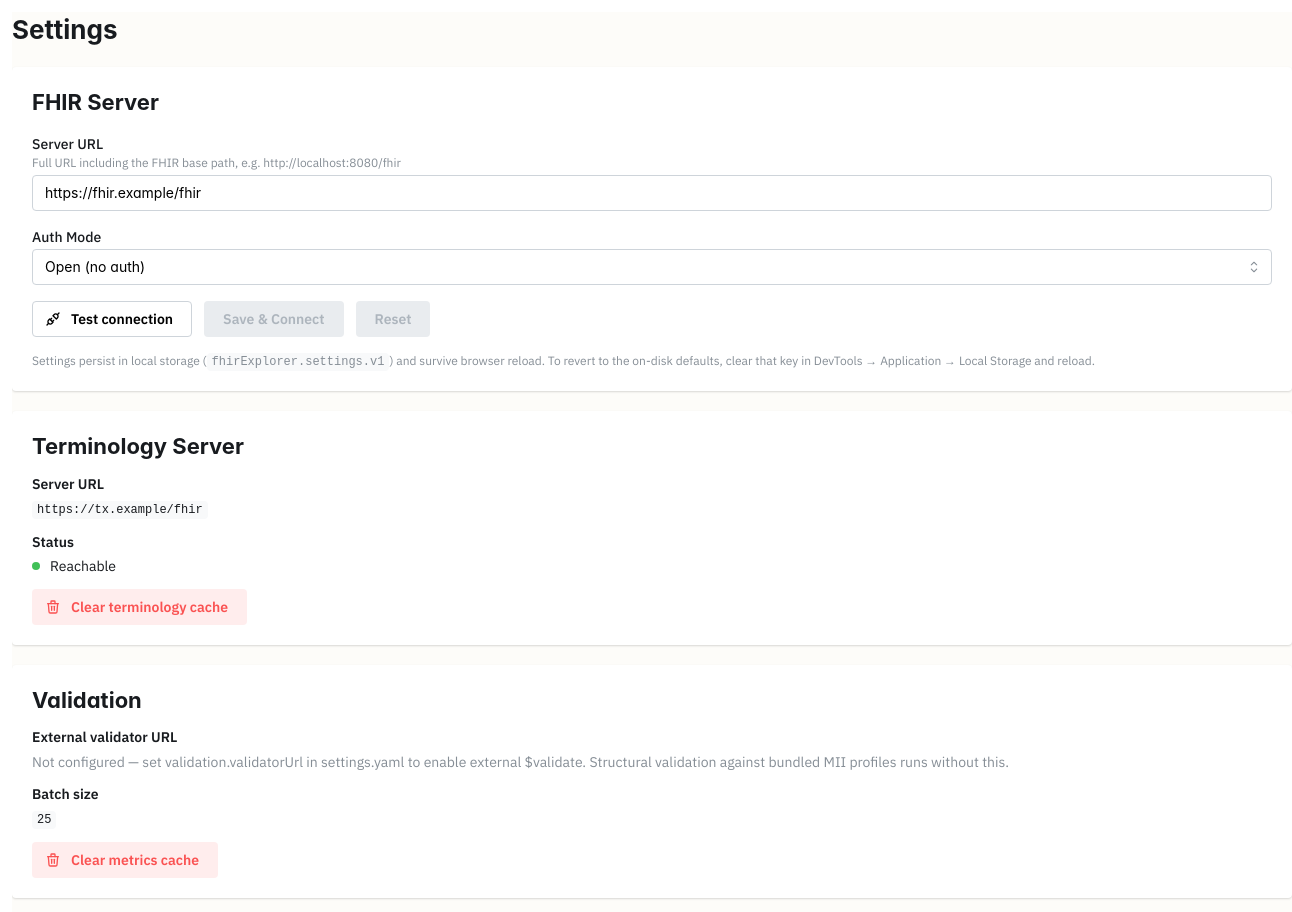
Test: SettingsPage — Clear terminology cache (V-09) › Clear terminology cache removes entries and shows notification
The width and height of the screenshot is (1292, 912).
Click the button "Clear terminology cache".
click(140, 606)  # box [32,588,247,624]
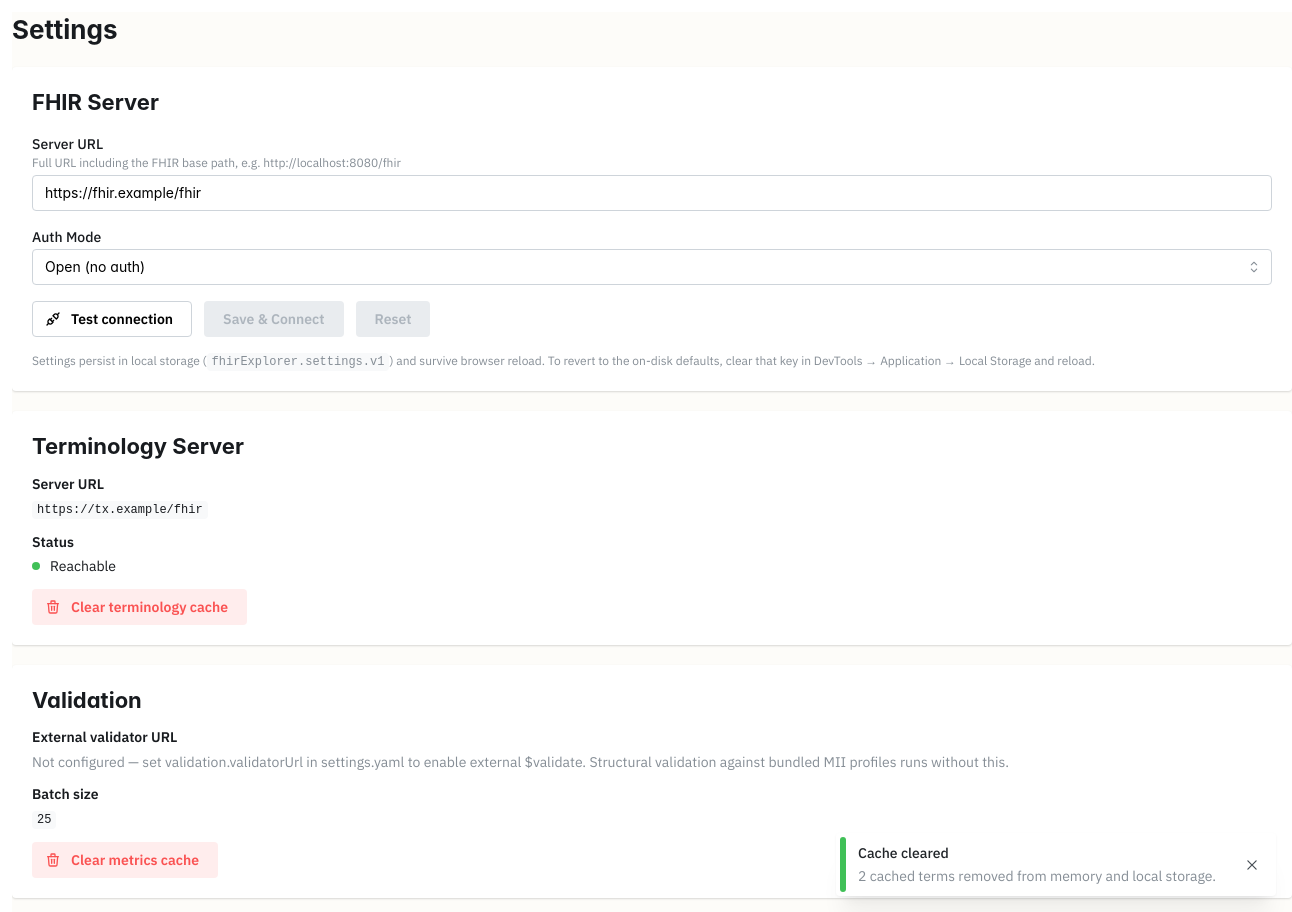
Expected: the text "Cache cleared" is shown, [858,844,949,862]
Expected: the text "2 cached terms removed from memory and local storage." is shown, [858,866,1228,886]
